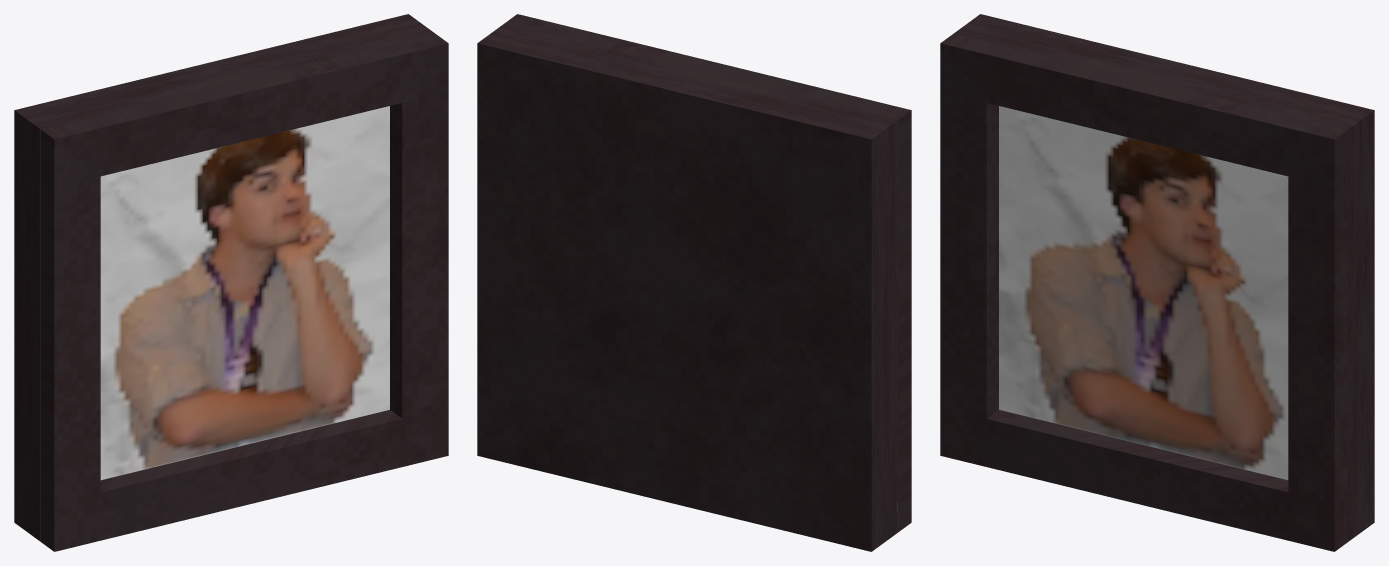
File: prop_photo10.obj
3 renders of one model, left to right at view 1: azimuth 30°, elevation 25°; view 2: azimuth 150°, elevation 25°; view 3: azimuth 330°, elevation 25°, orthographic.
Parts seen in each view (by area): view 1: Photo6.004; view 2: Photo6.004; view 3: Photo6.004.
Boxes of the visible parts, x1,y1,x2,y2 form: Photo6.004: [14, 14, 448, 551]; Photo6.004: [477, 14, 911, 551]; Photo6.004: [940, 14, 1374, 551].
Bounding box in the file's own units: 2 × 2 × 0.3518.
